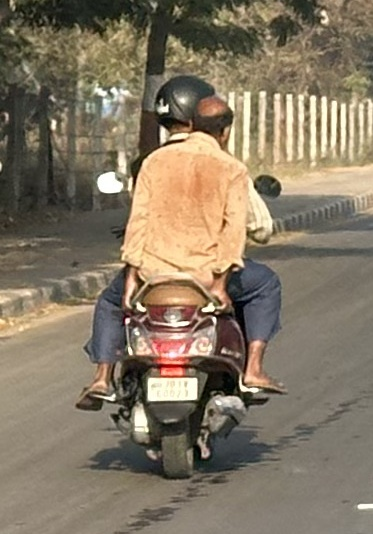BikeWithRider: (66, 69, 296, 483)
Helmet: (148, 70, 220, 144)
NoHelmet: (184, 91, 241, 153)
